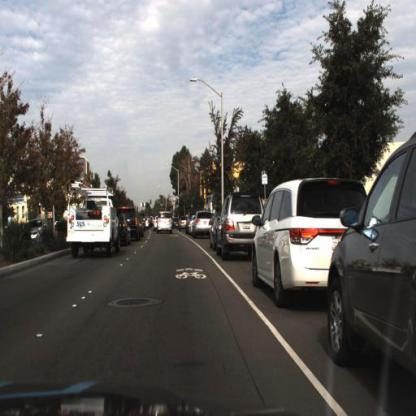car: (326, 132, 415, 390), (247, 173, 368, 310), (243, 156, 331, 333), (61, 174, 119, 268), (212, 189, 263, 261), (214, 187, 258, 268), (21, 213, 50, 248), (113, 203, 132, 254), (190, 210, 215, 245), (190, 208, 214, 244), (119, 203, 139, 246), (207, 207, 221, 258), (116, 202, 130, 249), (128, 202, 143, 245), (154, 208, 175, 232)
